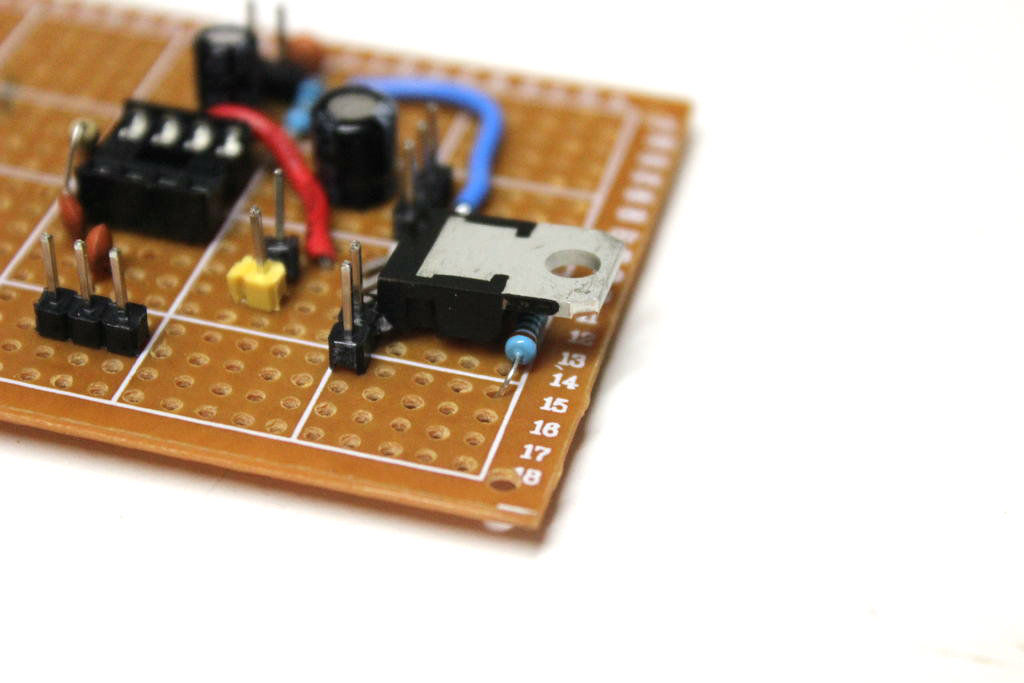capacitor: (316, 88, 399, 209), (194, 25, 257, 107)
